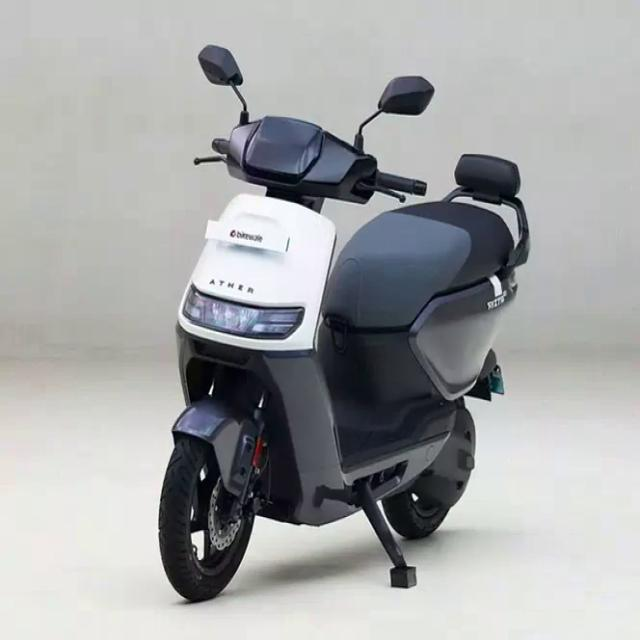objects: (128, 32, 549, 624)
